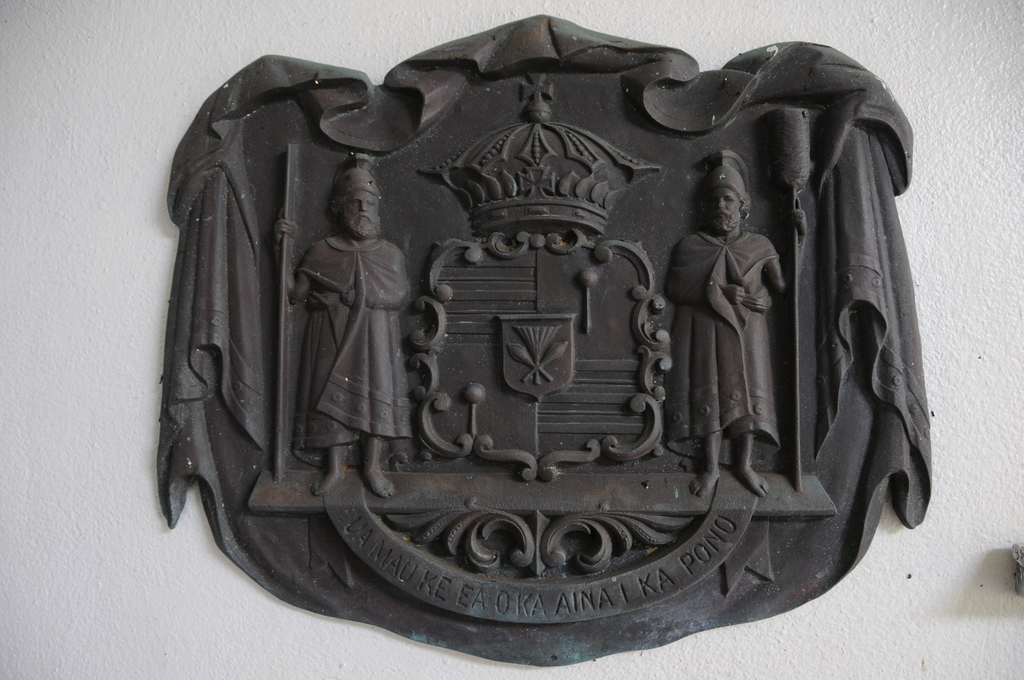person: (656, 157, 787, 496)
